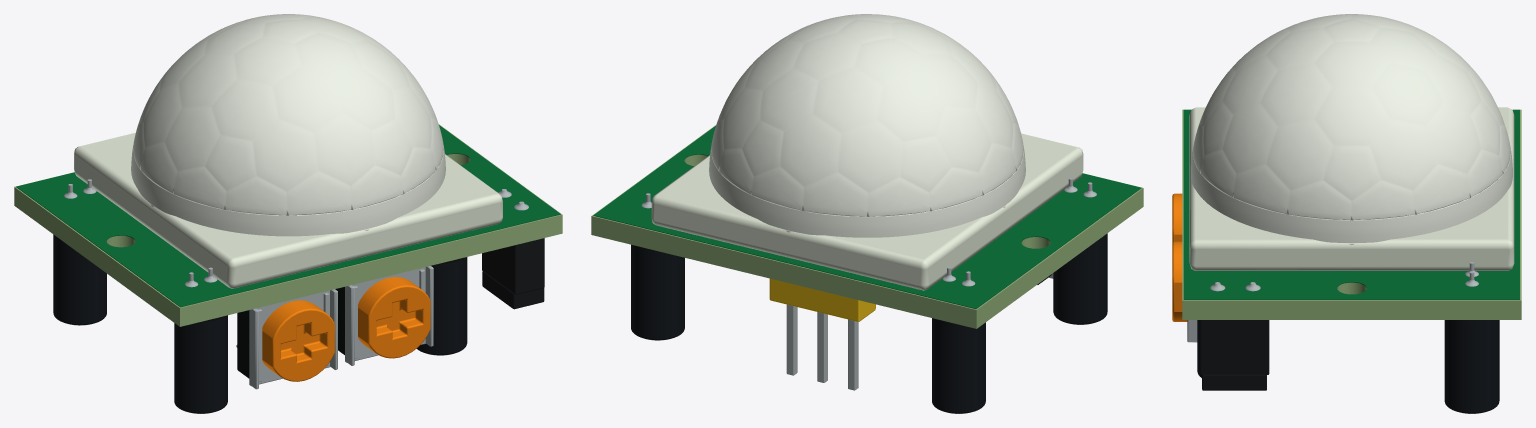
File: PIR.glb
3 views of the same model, side by side, from view 1: azimuth 30°, elevation 25°; view 2: azimuth 150°, elevation 25°; view 3: azimuth 270°, elevation 25° (orthographic). The views are drawn at different scales.
Parts seen in each view (by area): view 1: Polygonal Fresnel lens shell__asset.001, Square lens carrier__asset.001, Top solder mask__asset.001, Fiberglass circuit board__asset.001, Smooth lower lens skirt__asset.001, Trimmer 0 slotted rotor__asset.001, Trimmer 1 slotted rotor__asset.001, Capacitor 0 casing__asset.001, Capacitor 2 casing__asset.001, Capacitor 1 casing__asset.001, Mode jumper socket__asset.001, Mode jumper cap__asset.001 (+6 smaller); view 2: Polygonal Fresnel lens shell__asset.001, Square lens carrier__asset.001, Top solder mask__asset.001, Fiberglass circuit board__asset.001, Smooth lower lens skirt__asset.001, Capacitor 2 casing__asset.001, Capacitor 3 casing__asset.001, Capacitor 0 casing__asset.001, Three pin header insulator__asset.001, Output pin 2__asset.001, Output pin 1__asset.001, Output pin 0__asset.001; view 3: Polygonal Fresnel lens shell__asset.001, Square lens carrier__asset.001, Top solder mask__asset.001, Fiberglass circuit board__asset.001, Smooth lower lens skirt__asset.001, Capacitor 3 casing__asset.001, Mode jumper socket__asset.001, Mode jumper cap__asset.001, Trimmer 1 slotted rotor__asset.001, Trimmer 0 slotted rotor__asset.001.
Part boxes in pixels (left/top/right/bottom): Polygonal Fresnel lens shell__asset.001: left=133, top=14, right=443, bottom=215; Square lens carrier__asset.001: left=74, top=132, right=502, bottom=288; Top solder mask__asset.001: left=16, top=125, right=560, bottom=307; Fiberglass circuit board__asset.001: left=14, top=124, right=562, bottom=326; Smooth lower lens skirt__asset.001: left=131, top=146, right=445, bottom=236; Trimmer 0 slotted rotor__asset.001: left=262, top=300, right=334, bottom=381; Trimmer 1 slotted rotor__asset.001: left=358, top=277, right=430, bottom=358; Capacitor 0 casing__asset.001: left=174, top=315, right=227, bottom=413; Capacitor 2 casing__asset.001: left=53, top=234, right=106, bottom=325; Capacitor 1 casing__asset.001: left=416, top=257, right=467, bottom=355; Mode jumper socket__asset.001: left=482, top=238, right=544, bottom=294; Mode jumper cap__asset.001: left=482, top=271, right=544, bottom=309; Polygonal Fresnel lens shell__asset.001: left=711, top=14, right=1023, bottom=216; Square lens carrier__asset.001: left=651, top=133, right=1083, bottom=290; Top solder mask__asset.001: left=593, top=126, right=1141, bottom=308; Fiberglass circuit board__asset.001: left=591, top=125, right=1143, bottom=328; Smooth lower lens skirt__asset.001: left=709, top=147, right=1025, bottom=237; Capacitor 2 casing__asset.001: left=932, top=318, right=985, bottom=413; Capacitor 3 casing__asset.001: left=631, top=244, right=684, bottom=340; Capacitor 0 casing__asset.001: left=1053, top=233, right=1107, bottom=324; Three pin header insulator__asset.001: left=769, top=278, right=875, bottom=321; Output pin 2__asset.001: left=786, top=304, right=797, bottom=375; Output pin 1__asset.001: left=817, top=312, right=827, bottom=382; Output pin 0__asset.001: left=848, top=319, right=858, bottom=390; Polygonal Fresnel lens shell__asset.001: left=1193, top=14, right=1510, bottom=220; Square lens carrier__asset.001: left=1189, top=107, right=1514, bottom=270; Top solder mask__asset.001: left=1183, top=109, right=1519, bottom=299; Fiberglass circuit board__asset.001: left=1182, top=109, right=1521, bottom=319; Smooth lower lens skirt__asset.001: left=1191, top=148, right=1512, bottom=242; Capacitor 3 casing__asset.001: left=1444, top=320, right=1499, bottom=413; Mode jumper socket__asset.001: left=1200, top=320, right=1269, bottom=374; Mode jumper cap__asset.001: left=1202, top=374, right=1266, bottom=390; Trimmer 1 slotted rotor__asset.001: left=1172, top=241, right=1187, bottom=321; Trimmer 0 slotted rotor__asset.001: left=1172, top=193, right=1182, bottom=242.
Bounding box in the file's own units: 0.032 × 0.0235 × 0.0247.
